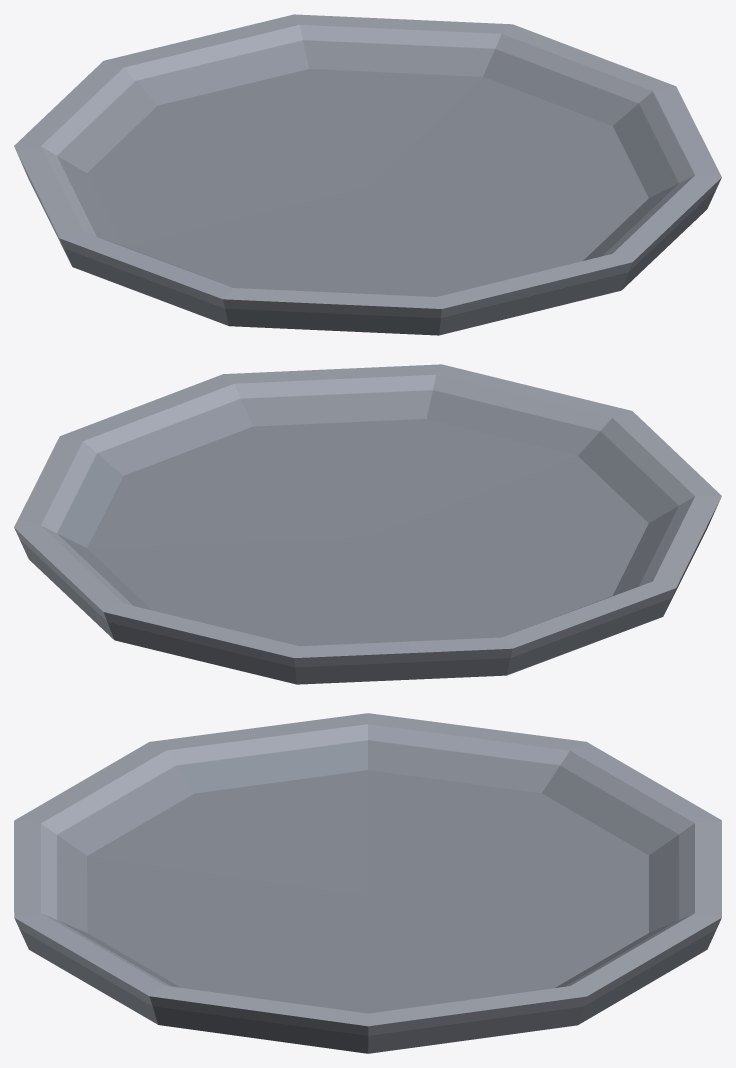
Rendered from SM_Prop_Plate_Large_01.fbx.
The picture shows the model from 3 angles, top to bottom: view 1: azimuth 30°, elevation 25°; view 2: azimuth 150°, elevation 25°; view 3: azimuth 270°, elevation 25°; orthographic projection. The views are drawn at different scales.
Visible parts, largest first — view 1: SM_Prop_Plate_Large_01; view 2: SM_Prop_Plate_Large_01; view 3: SM_Prop_Plate_Large_01.
Part boxes in pixels (box(x1,y1,x2,y2)): SM_Prop_Plate_Large_01: box(14, 14, 721, 335); SM_Prop_Plate_Large_01: box(14, 364, 721, 684); SM_Prop_Plate_Large_01: box(14, 713, 721, 1053).
Size of the model in its own units: 127 by 7.76 by 121.
